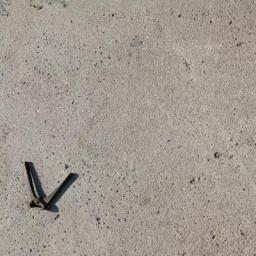FOD: (22, 160, 78, 214)
